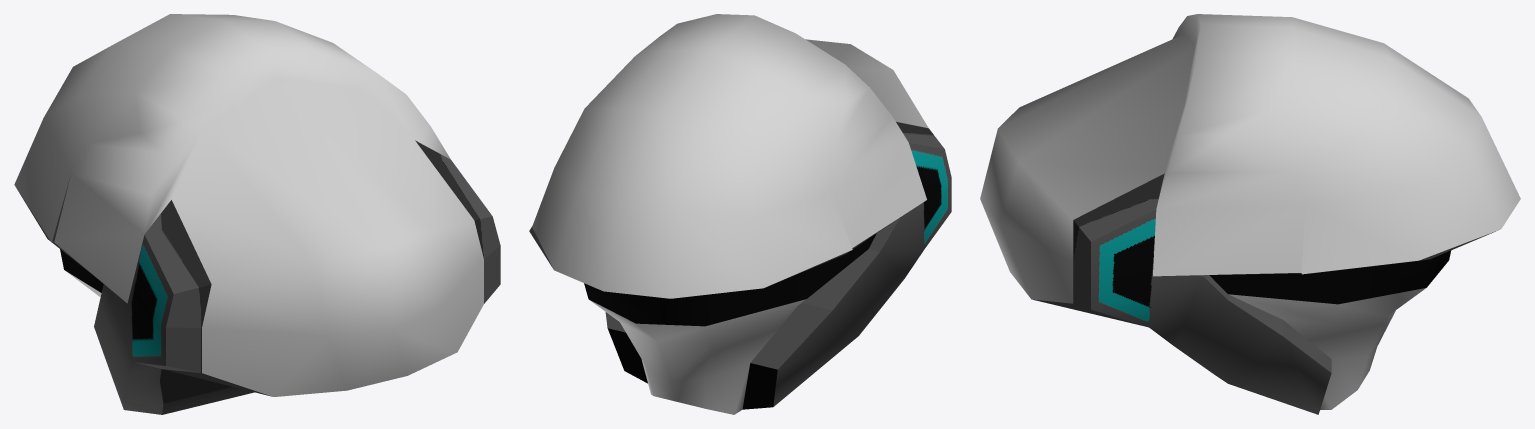
File: Head.fbx
The picture shows the model from 3 angles, left to right: view 1: azimuth 30°, elevation 25°; view 2: azimuth 150°, elevation 25°; view 3: azimuth 270°, elevation 25°; orthographic projection. The views are drawn at different scales.
Parts seen in each view (by area): view 1: Shape_IndexedFaceSet.065, Shape_IndexedFaceSet.064; view 2: Shape_IndexedFaceSet.065, Shape_IndexedFaceSet.064, Shape_IndexedFaceSet.063; view 3: Shape_IndexedFaceSet.065, Shape_IndexedFaceSet.064.
Boxes of the visible parts, x1,y1,x2,y2 form: Shape_IndexedFaceSet.065: [14, 14, 483, 414]; Shape_IndexedFaceSet.064: [16, 140, 500, 414]; Shape_IndexedFaceSet.065: [532, 14, 951, 414]; Shape_IndexedFaceSet.064: [529, 122, 944, 369]; Shape_IndexedFaceSet.063: [607, 328, 777, 409]; Shape_IndexedFaceSet.065: [980, 14, 1520, 414]; Shape_IndexedFaceSet.064: [1033, 173, 1495, 372].
Bounding box in the file's own units: 0.2508 × 0.2738 × 0.3685.
3 materials, 3 textured.
